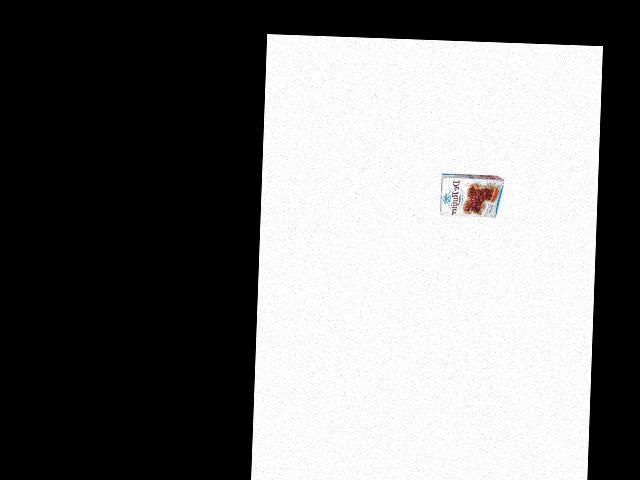chocolate: (436, 167, 503, 223)
